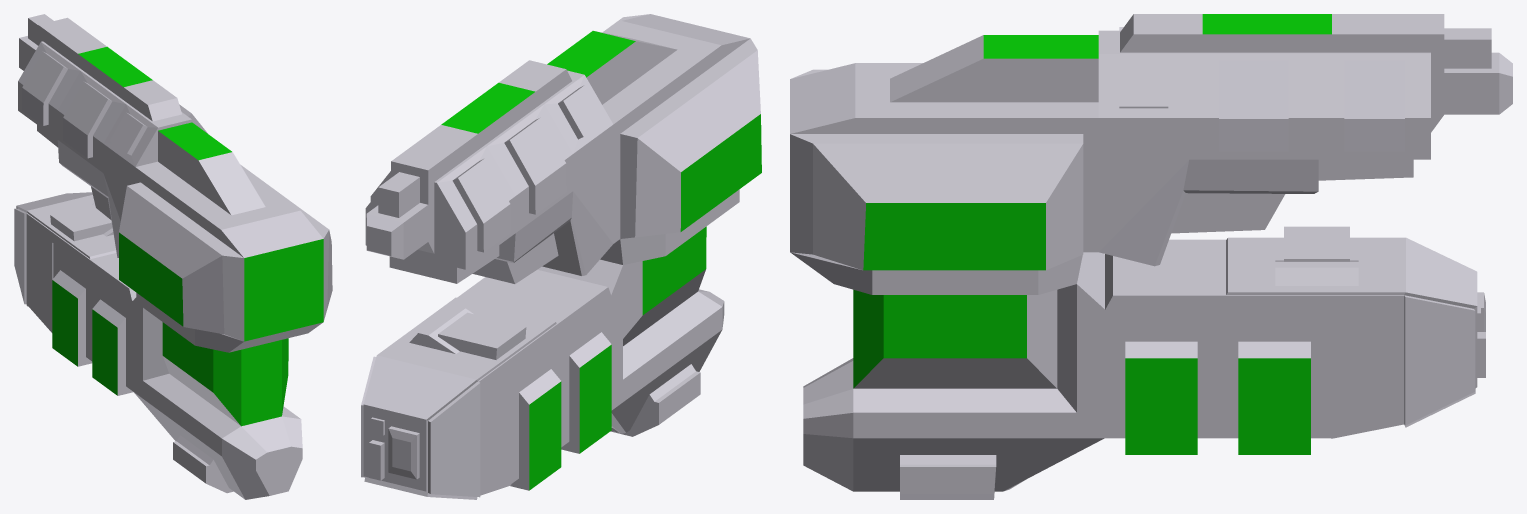
Rendered from Crab Claw.fbx.
The picture shows the model from 3 angles, left to right: view 1: azimuth 30°, elevation 25°; view 2: azimuth 150°, elevation 25°; view 3: azimuth 270°, elevation 25°; orthographic projection. The views are drawn at different scales.
Parts seen in each view (by area): view 1: Crab Claw; view 2: Crab Claw; view 3: Crab Claw.
Boxes of the visible parts, left/top/right/bottom form: Crab Claw: left=14, top=14, right=332, bottom=499; Crab Claw: left=361, top=14, right=761, bottom=499; Crab Claw: left=790, top=14, right=1512, bottom=499.
Size of the model in its own units: 2.2 by 4.61 by 6.51.
